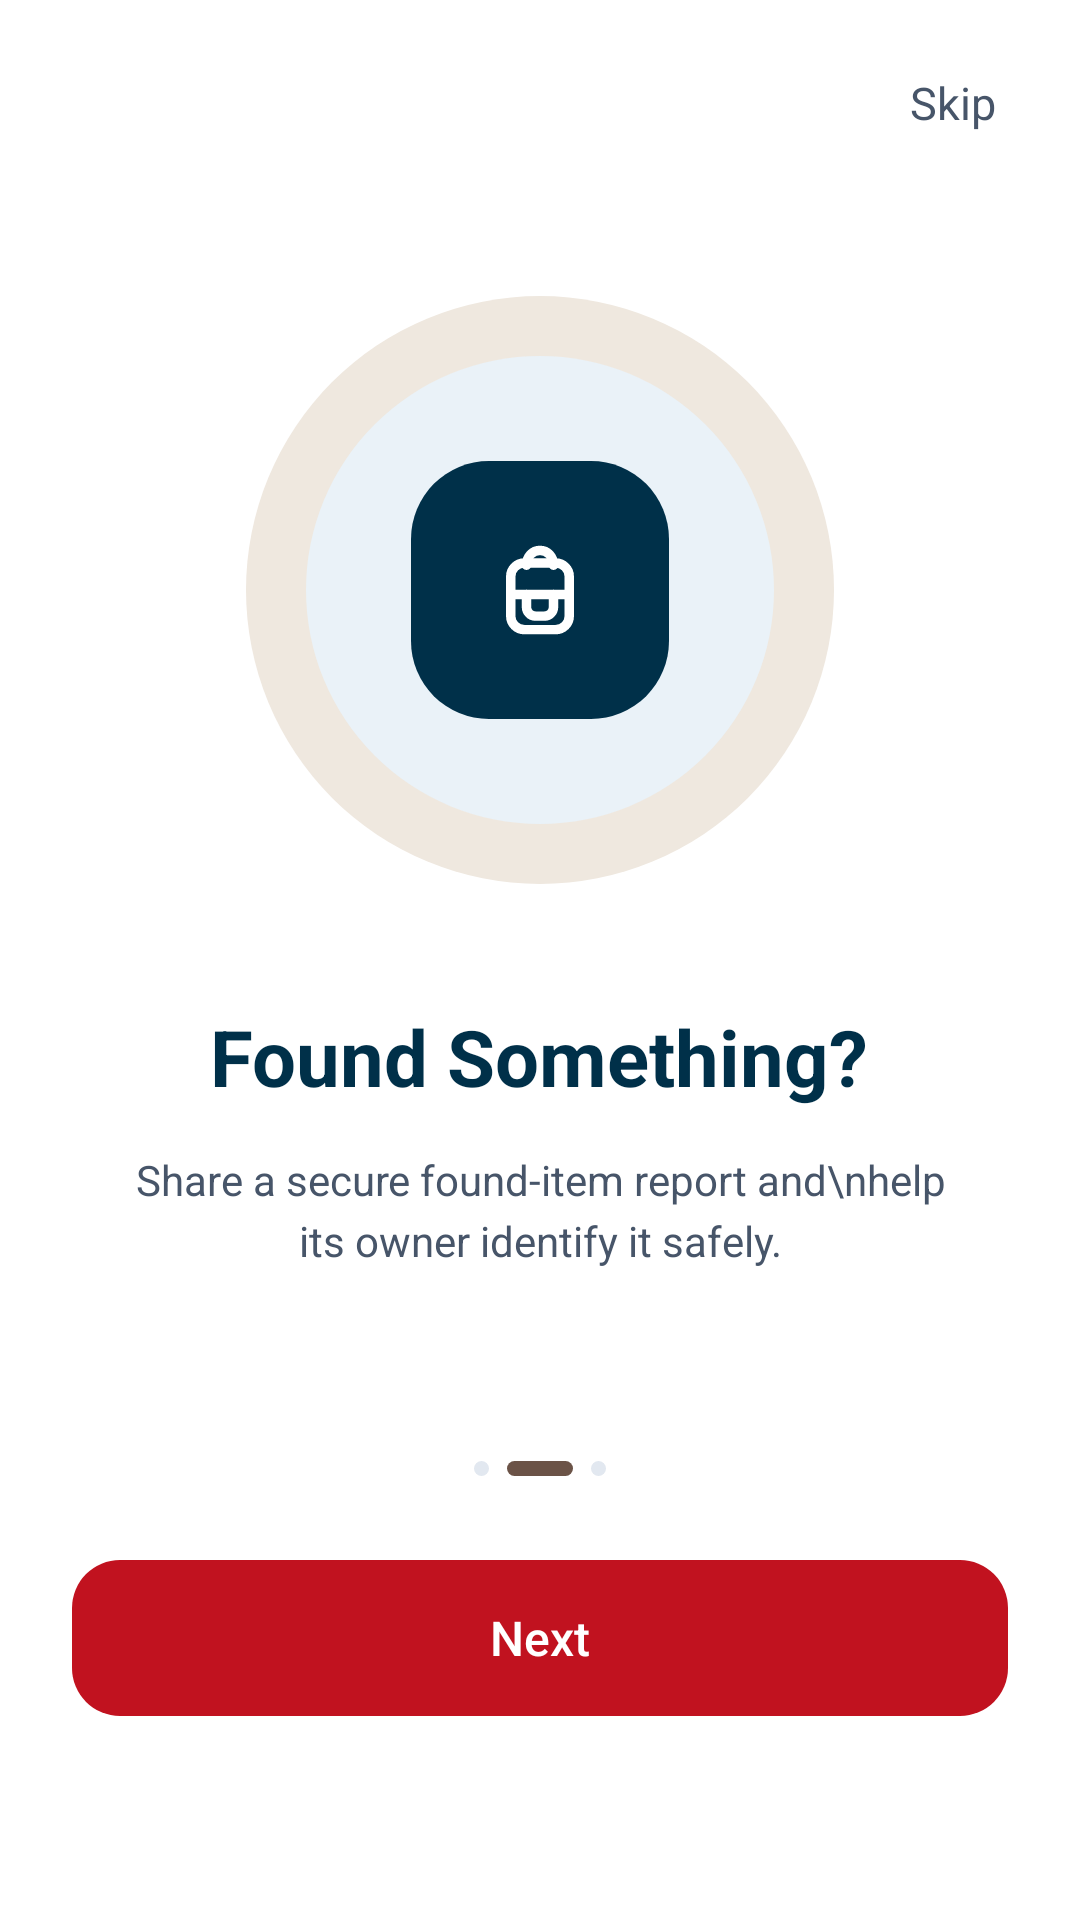

Where to tap for icons on this 1080px×1920px app screen, as (x=x, y=y):
Found Bag Icon: (x=540, y=590)
